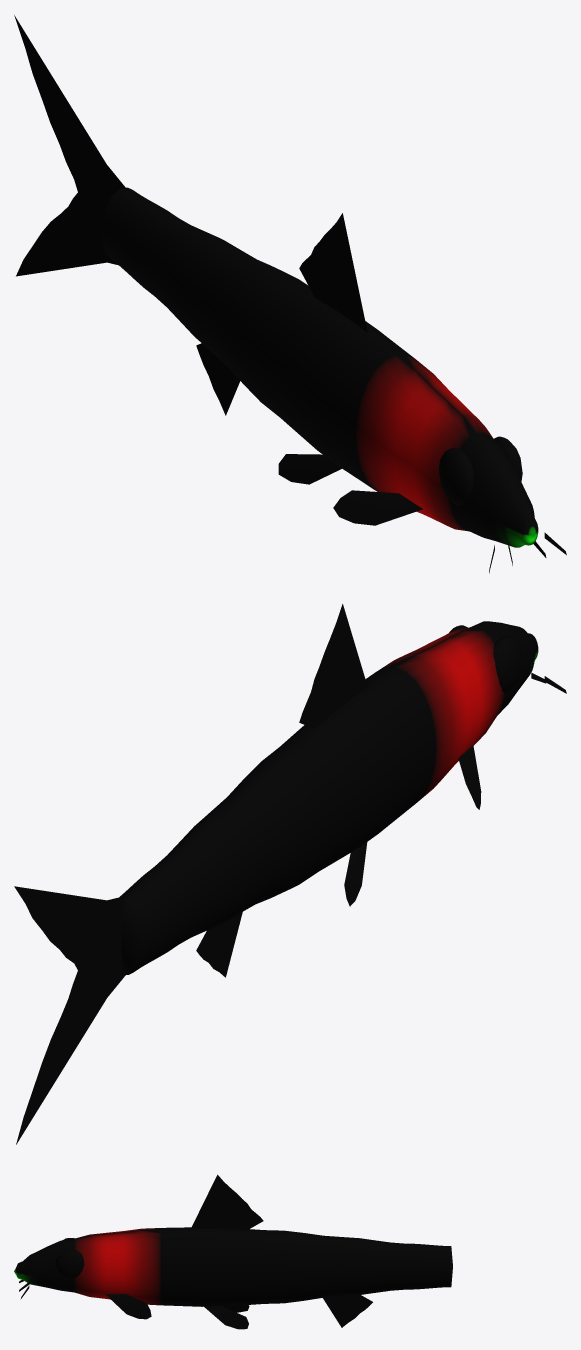
The model's file is siamese-algae-eater.glb.
3 renders of one model, top to bottom at view 1: azimuth 30°, elevation 25°; view 2: azimuth 150°, elevation 25°; view 3: azimuth 270°, elevation 25°, orthographic. The views are drawn at different scales.
Visible parts, largest first — view 1: sae_body, sae_caudal, sae_dorsal, sae_pectoralL, sae_eyeL, sae_pelvicL, sae_anal; view 2: sae_body, sae_caudal, sae_dorsal, sae_anal, sae_eyeL, sae_pelvicL, sae_pectoralL; view 3: sae_body, sae_dorsal, sae_anal, sae_eyeR, sae_pectoralR, sae_pelvicR.
Boxes of the visible parts, <box> form: sae_body: <box>101,187,538,547</box>; sae_caudal: <box>14,15,126,276</box>; sae_dorsal: <box>299,213,367,332</box>; sae_pectoralL: <box>333,490,422,525</box>; sae_eyeL: <box>438,448,473,505</box>; sae_pelvicL: <box>278,454,341,484</box>; sae_anal: <box>196,343,240,415</box>; sae_body: <box>119,621,538,974</box>; sae_caudal: <box>14,886,126,1144</box>; sae_dorsal: <box>299,604,367,728</box>; sae_anal: <box>196,912,242,977</box>; sae_eyeL: <box>493,636,522,692</box>; sae_pelvicL: <box>344,842,367,906</box>; sae_pectoralL: <box>458,745,481,809</box>; sae_body: <box>14,1227,452,1306</box>; sae_dorsal: <box>191,1174,263,1230</box>; sae_anal: <box>323,1295,372,1327</box>; sae_eyeR: <box>55,1249,84,1278</box>; sae_pectoralR: <box>105,1294,151,1319</box>; sae_pelvicR: <box>204,1306,248,1329</box>.
Size of the model in its own units: 0.2014 by 0.4066 by 1.26.
